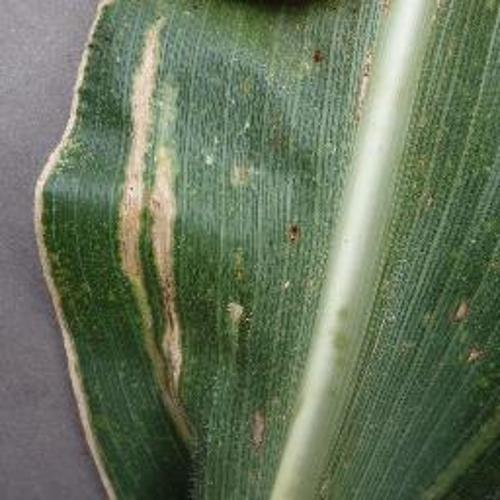Corn: (33, 0, 500, 500)
